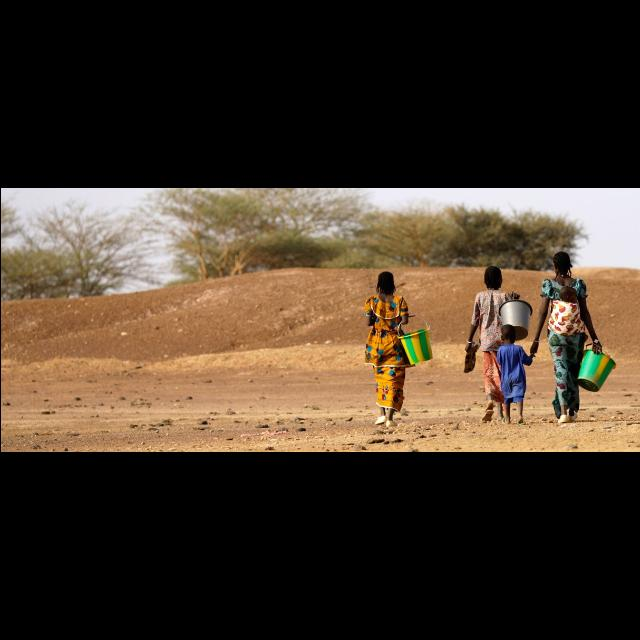head: (484, 266, 504, 288), (553, 252, 571, 276), (558, 286, 578, 304), (378, 273, 394, 293), (501, 324, 517, 344)
person: (529, 250, 605, 426), (464, 264, 522, 424), (361, 270, 417, 428), (488, 322, 536, 428), (546, 286, 588, 338)
